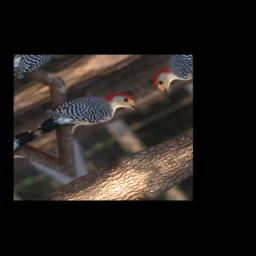Woodpecker: (30, 76, 147, 157)
